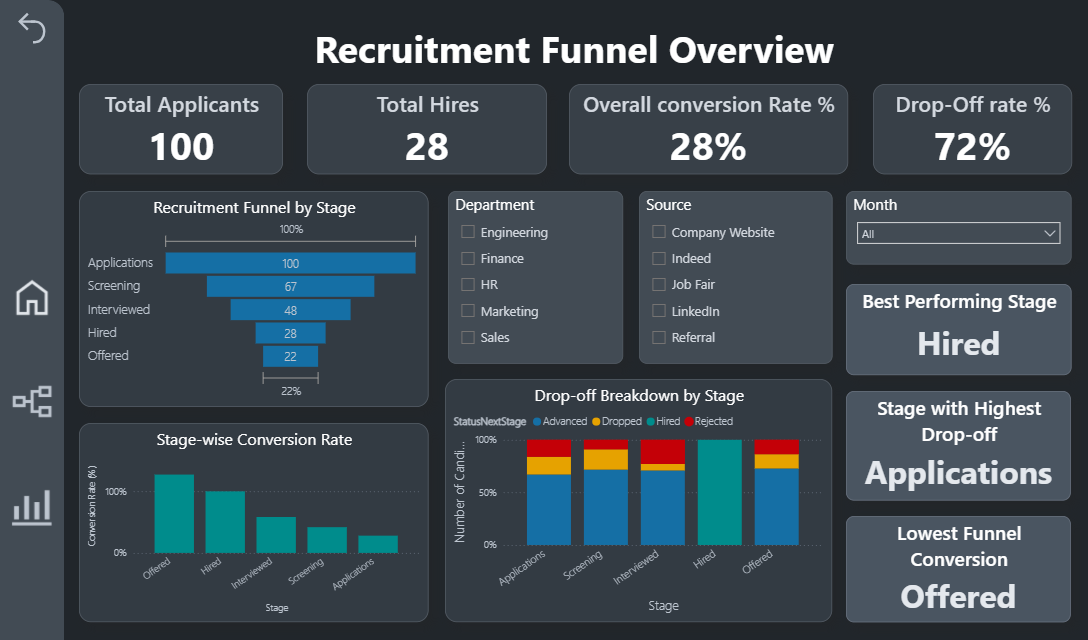

The page's visual inventory and layout, read from the dashboard file:
{"tool":"powerbi","page":{"name":"Recruitment Funnel Overview","canvas":[1360,800],"ordinal":1},"visuals":[{"type":"shape","box":[0,0,80.3,800],"z":0,"group":"g1"},{"type":"card","title":"Total Applicants","fields":{"Values":["Measure Table.Total Applicants"]},"box":[98.7,105.3,255.3,113.2],"z":0},{"type":"card","title":"Total Hires","fields":{"Values":["Measure Table.Total Hires"]},"box":[384.2,105.3,300,113.2],"z":1000},{"type":"card","title":"Overall conversion Rate %","fields":{"Values":["Measure Table.Overall Conversion Rate"]},"box":[711.8,105.3,348.7,113.2],"z":2000},{"type":"actionButton","box":[0,601.2,80,67.5],"z":2000,"group":"g1"},{"type":"card","title":"Drop-Off rate %","fields":{"Values":["Measure Table.Drop-off Rate"]},"box":[1090.8,105.3,248.7,113.2],"z":3000},{"type":"actionButton","box":[0,338.8,80,66.2],"z":3000,"group":"g1"},{"type":"actionButton","box":[0,468.8,80,66.2],"z":3000,"group":"g1"},{"type":"actionButton","box":[0,10.5,80.3,50],"z":4000,"group":"g1"},{"type":"funnel","title":"Recruitment Funnel by Stage","fields":{"Category":["recruitment_funnel_data.FinalStage"],"Y":["Measure Table.Total Applicants"]},"box":[98.4,238.8,436.7,269.6],"z":4000},{"type":"clusteredColumnChart","title":"Stage-wise Conversion Rate","fields":{"Y":["Measure Table.Overall Conversion Rate"],"Category":["recruitment_funnel_data.FinalStage"]},"box":[98.4,528.6,436.7,249.4],"z":5000},{"type":"hundredPercentStackedColumnChart","title":"Drop-off Breakdown by Stage","fields":{"Y":["Measure Table.Total Applicants"],"Category":["recruitment_funnel_data.FinalStage"],"Series":["recruitment_funnel_data.StatusNextStage"]},"box":[556.6,474.2,483.5,303.8],"z":6000},{"type":"slicer","title":"Month","fields":{"Values":["recruitment_funnel_data.Month Name"]},"box":[1057.9,238.2,281.6,92.1],"z":7000},{"type":"slicer","title":"Department","fields":{"Values":["recruitment_funnel_data.Department"]},"box":[560.4,238.8,219,216.5],"z":8000},{"type":"slicer","title":"Source","fields":{"Values":["recruitment_funnel_data.Source"]},"box":[798.4,238.8,241.8,216.5],"z":9000},{"type":"card","title":"Stage with Highest Drop-off","fields":{"Values":["Min(recruitment_funnel_data.FinalStage)"]},"box":[1057.9,488.1,281,136.7],"z":10000},{"type":"card","title":"Best Performing Stage","fields":{"Values":["Min(recruitment_funnel_data.FinalStage)"]},"box":[1057.9,355.3,281.6,114.5],"z":11000},{"type":"card","title":"Lowest Funnel Conversion","fields":{"Values":["Min(recruitment_funnel_data.FinalStage)"]},"box":[1057.9,645.1,281,132.9],"z":12000},{"type":"shape","box":[97.7,19.7,1240.8,80.3],"z":13000},{"type":"group","id":"g1","title":"Group 1","box":[0,0,80,800],"z":13001}]}

Visuals, with their boxes on the page's 1360x800 design canvas (x1, y1, x2, y2). These are canvas units, not pixel positions in the 1088x640 screenshot, which may show the page scaled, cropped or inside an application window:
shape: region(0, 0, 80, 800)
"Total Applicants" card: region(99, 105, 354, 218)
"Total Hires" card: region(384, 105, 684, 218)
"Overall conversion Rate %" card: region(712, 105, 1060, 218)
actionButton: region(0, 601, 80, 669)
"Drop-Off rate %" card: region(1091, 105, 1340, 218)
actionButton: region(0, 339, 80, 405)
actionButton: region(0, 469, 80, 535)
actionButton: region(0, 10, 80, 60)
"Recruitment Funnel by Stage" funnel: region(98, 239, 535, 508)
"Stage-wise Conversion Rate" clusteredColumnChart: region(98, 529, 535, 778)
"Drop-off Breakdown by Stage" hundredPercentStackedColumnChart: region(557, 474, 1040, 778)
"Month" slicer: region(1058, 238, 1340, 330)
"Department" slicer: region(560, 239, 779, 455)
"Source" slicer: region(798, 239, 1040, 455)
"Stage with Highest Drop-off" card: region(1058, 488, 1339, 625)
"Best Performing Stage" card: region(1058, 355, 1340, 470)
"Lowest Funnel Conversion" card: region(1058, 645, 1339, 778)
shape: region(98, 20, 1338, 100)
"Group 1" group: region(0, 0, 80, 800)
